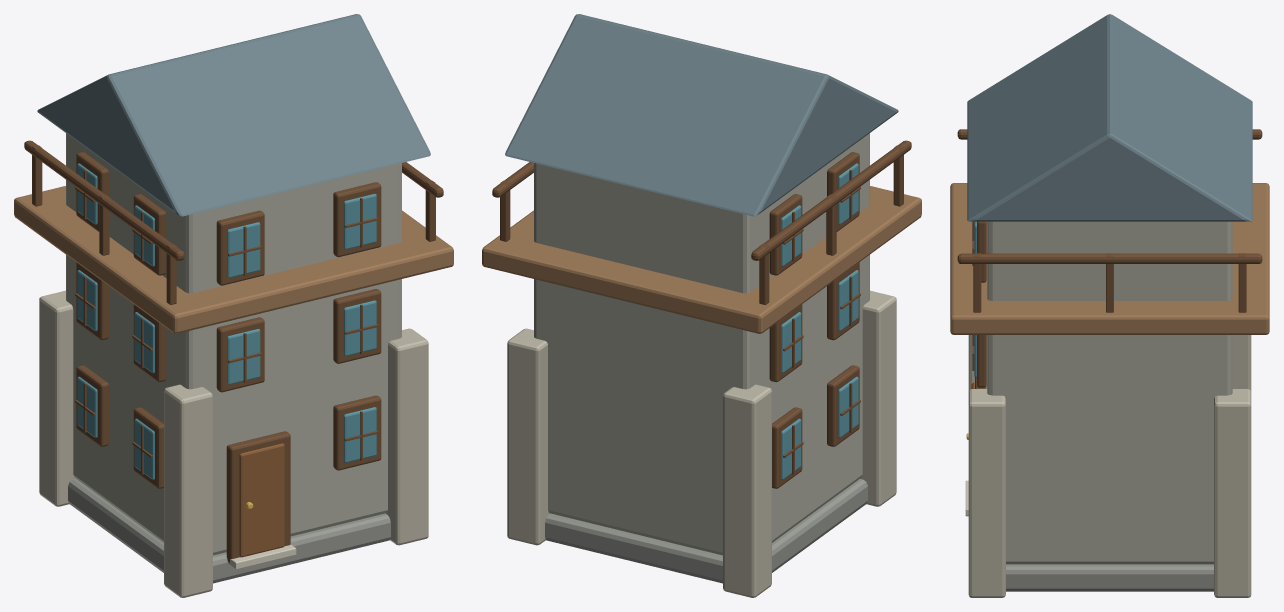
Rendered from temperate-tower-1.glb.
3 renders of one model, left to right at view 1: azimuth 30°, elevation 25°; view 2: azimuth 150°, elevation 25°; view 3: azimuth 270°, elevation 25°, orthographic.
Parts seen in each view (by area): view 1: Fieldstone, Blue slate, Warm civic stone, Dark beams, Aged oak, Blue glass, Foundation stone, Door oak, Cut limestone; view 2: Fieldstone, Blue slate, Warm civic stone, Aged oak, Dark beams, Foundation stone, Blue glass; view 3: Fieldstone, Blue slate, Warm civic stone, Aged oak, Dark beams, Foundation stone.
Boxes of the visible parts, bbox=[...] form: Fieldstone: bbox=[66, 133, 401, 555]; Blue slate: bbox=[37, 14, 430, 216]; Warm civic stone: bbox=[39, 290, 428, 597]; Dark beams: bbox=[24, 140, 443, 562]; Aged oak: bbox=[14, 186, 453, 333]; Blue glass: bbox=[77, 163, 376, 479]; Foundation stone: bbox=[68, 479, 390, 583]; Door oak: bbox=[239, 443, 284, 557]; Cut limestone: bbox=[225, 544, 296, 569]; Fieldstone: bbox=[534, 133, 869, 555]; Blue slate: bbox=[505, 14, 898, 216]; Warm civic stone: bbox=[507, 290, 896, 597]; Aged oak: bbox=[482, 186, 921, 333]; Dark beams: bbox=[492, 140, 911, 488]; Foundation stone: bbox=[545, 479, 867, 583]; Blue glass: bbox=[781, 163, 858, 479]; Fieldstone: bbox=[987, 221, 1232, 564]; Blue slate: bbox=[967, 14, 1252, 221]; Warm civic stone: bbox=[968, 335, 1251, 597]; Aged oak: bbox=[950, 183, 1269, 334]; Dark beams: bbox=[957, 129, 1262, 388]; Foundation stone: bbox=[1006, 564, 1213, 591].
Size of the model in its own units: 3.25 by 5.23 by 3.25.
